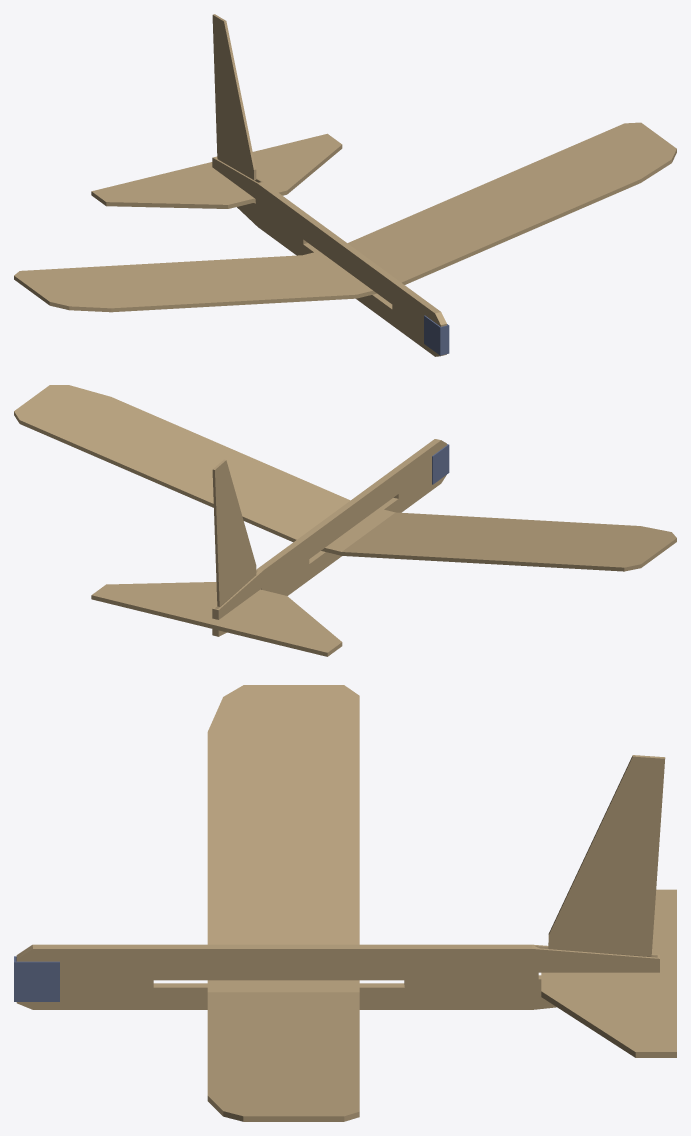
Rendered from balsa.dae.
The picture shows the model from 3 angles, top to bottom: view 1: azimuth 30°, elevation 25°; view 2: azimuth 150°, elevation 25°; view 3: azimuth 270°, elevation 25°; orthographic projection. The views are drawn at different scales.
Visible parts, largest first — view 1: wing, fuselage, elevator, rudder, ballast; view 2: wing, elevator, fuselage, rudder, ballast; view 3: wing, fuselage, rudder, elevator, ballast.
Part boxes in pixels (<box>): wing: <box>14,122,676,312</box>; fuselage: <box>212,156,446,356</box>; elevator: <box>91,133,342,208</box>; rudder: <box>212,14,256,180</box>; ballast: <box>424,315,449,355</box>; wing: <box>14,385,676,571</box>; elevator: <box>91,582,342,656</box>; fuselage: <box>212,439,446,636</box>; rudder: <box>212,459,256,606</box>; ballast: <box>432,444,449,484</box>; wing: <box>207,685,359,1121</box>; fuselage: <box>16,944,659,1009</box>; rudder: <box>548,755,665,956</box>; elevator: <box>541,889,676,1057</box>; ballast: <box>14,956,59,1001</box>.
Size of the model in its own units: 1 by 0.6528 by 0.2738.
